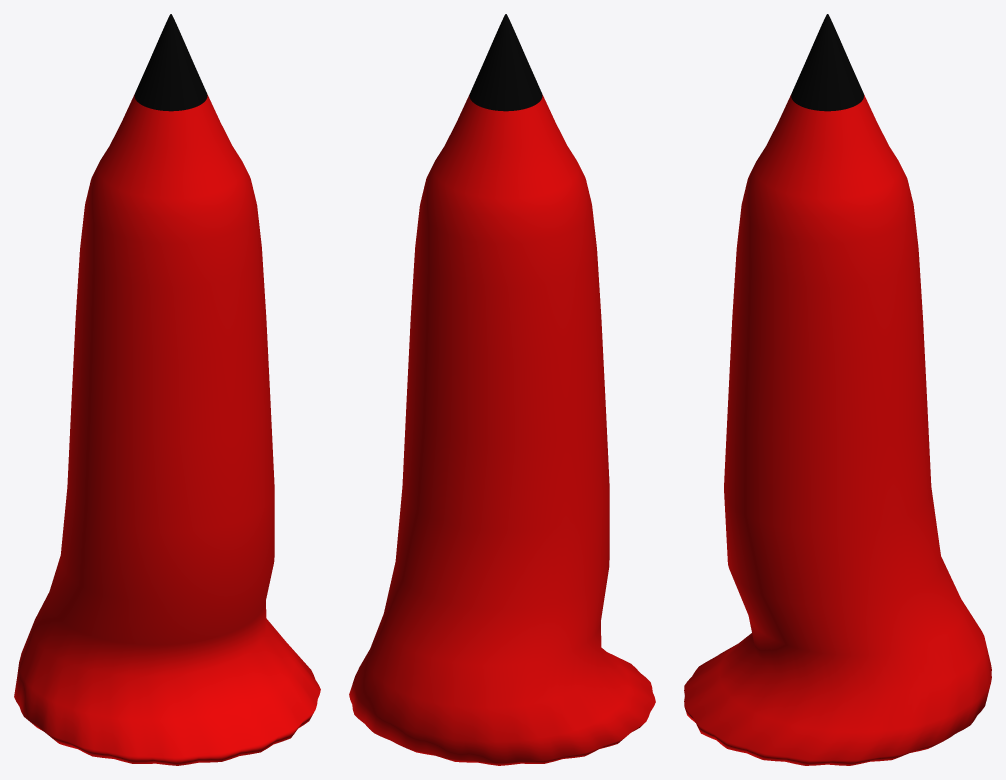
File: kırmızı.fbx
The picture shows the model from 3 angles, left to right: view 1: azimuth 30°, elevation 25°; view 2: azimuth 150°, elevation 25°; view 3: azimuth 270°, elevation 25°; orthographic projection.
Parts seen in each view (by area): view 1: pCylinder1; view 2: pCylinder1; view 3: pCylinder1.
Boxes of the visible parts, x1,y1,x2,y2 form: pCylinder1: (14,14,320,765); pCylinder1: (349,14,655,765); pCylinder1: (684,14,991,765).
Bounding box in the file's own units: 4.45 × 11.21 × 4.49.
